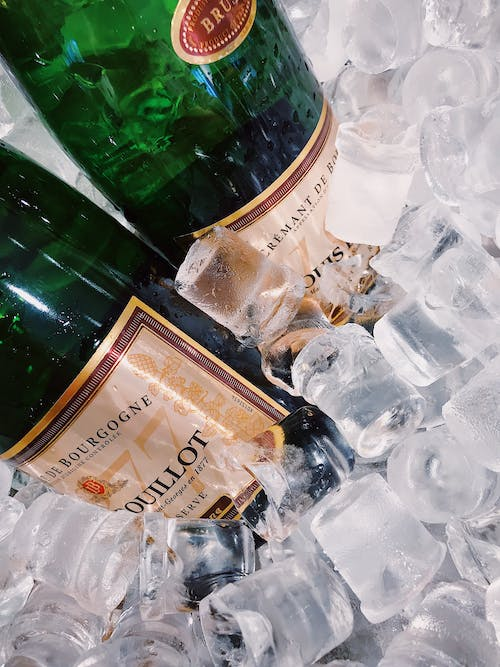alcohol: (0, 136, 354, 566), (0, 0, 381, 341)
